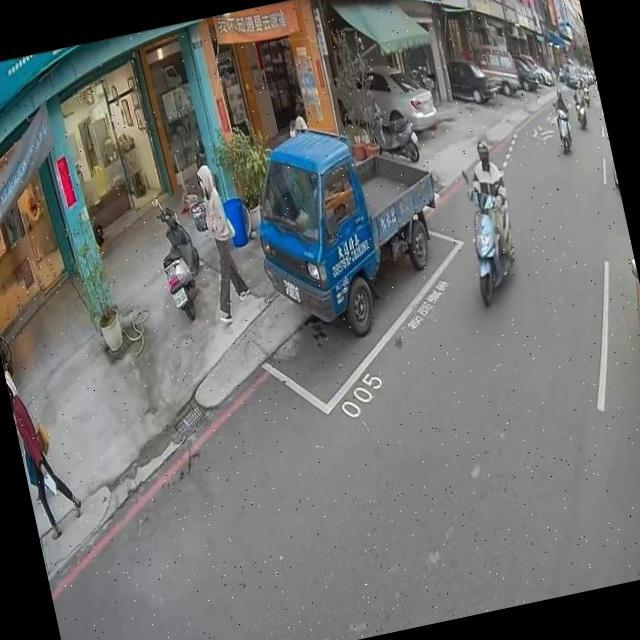person: (3, 358, 88, 540), (181, 150, 257, 323), (0, 321, 61, 508), (457, 133, 522, 274), (549, 85, 569, 115), (569, 78, 587, 110), (284, 114, 300, 140), (292, 112, 308, 132)
